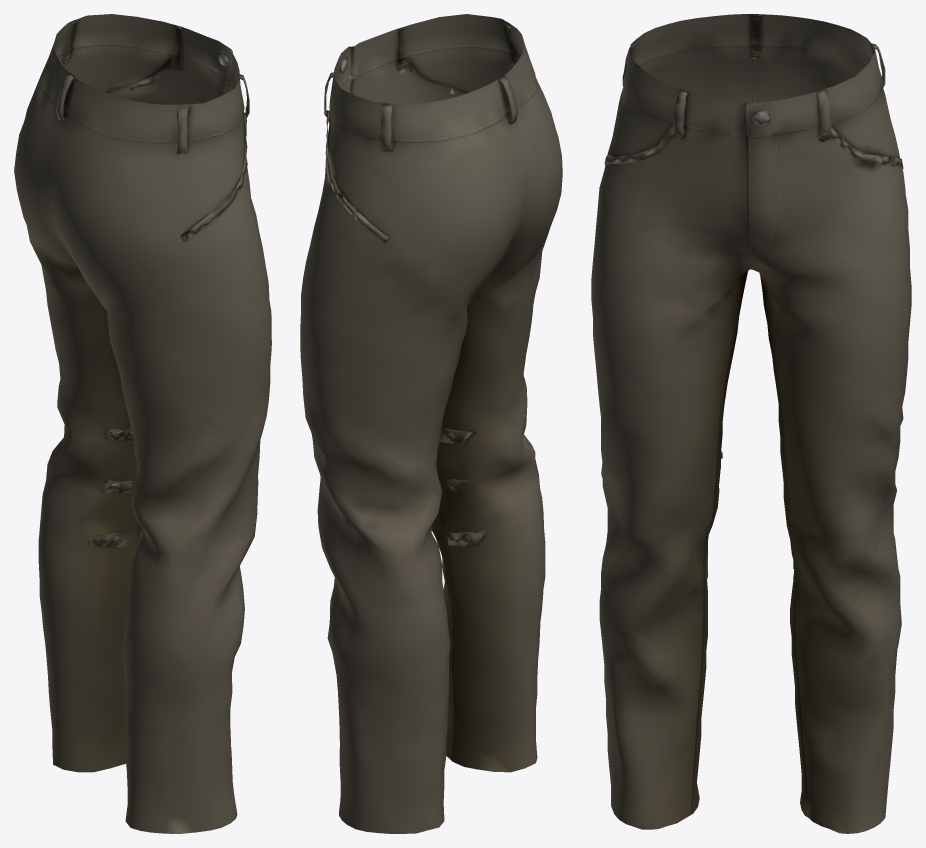
Rendered from pants_olive_crop.glb.
3 renders of one model, left to right at view 1: azimuth 30°, elevation 25°; view 2: azimuth 150°, elevation 25°; view 3: azimuth 270°, elevation 25°, orthographic. The views are drawn at different scales.
Visible parts, largest first — view 1: tripo_node_ab8506f6-b5bb-4521-ba50-d56d77639d78; view 2: tripo_node_ab8506f6-b5bb-4521-ba50-d56d77639d78; view 3: tripo_node_ab8506f6-b5bb-4521-ba50-d56d77639d78.
Boxes of the visible parts, left/top/right/bottom form: tripo_node_ab8506f6-b5bb-4521-ba50-d56d77639d78: left=14, top=14, right=271, bottom=833; tripo_node_ab8506f6-b5bb-4521-ba50-d56d77639d78: left=300, top=14, right=562, bottom=833; tripo_node_ab8506f6-b5bb-4521-ba50-d56d77639d78: left=591, top=14, right=911, bottom=833.
Size of the model in its own units: 0.2637 by 0.998 by 0.3809.
Materials: 1 (1 with a texture image).
